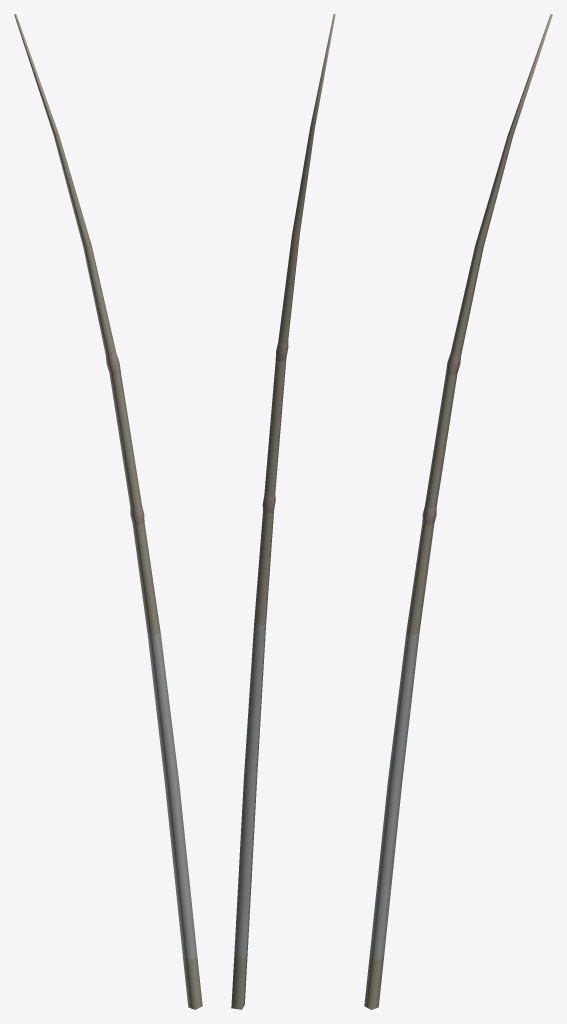
The picture shows the model from 3 angles, left to right: view 1: azimuth 90°, elevation 25°; view 2: azimuth 210°, elevation 25°; view 3: azimuth 270°, elevation 25°; orthographic projection. The views are drawn at different scales.
Parts seen in each view (by area): view 1: G:\FFXIV-MapTools\exports\s1f3\bg\ffxiv\sea_s1\fld\s1f3\bgpa (×3); view 2: G:\FFXIV-MapTools\exports\s1f3\bg\ffxiv\sea_s1\fld\s1f3\bgpa (×3); view 3: G:\FFXIV-MapTools\exports\s1f3\bg\ffxiv\sea_s1\fld\s1f3\bgpa (×3).
Boxes of the visible parts, x1,y1,x2,y2 form: G:\FFXIV-MapTools\exports\s1f3\bg\ffxiv\sea_s1\fld\s1f3\bgpa (×3): [14, 14, 202, 1009]; G:\FFXIV-MapTools\exports\s1f3\bg\ffxiv\sea_s1\fld\s1f3\bgpa (×3): [231, 14, 335, 1009]; G:\FFXIV-MapTools\exports\s1f3\bg\ffxiv\sea_s1\fld\s1f3\bgpa (×3): [364, 14, 552, 1009].
Bounding box in the file's own units: 0.0525 × 3.96 × 0.6817.
